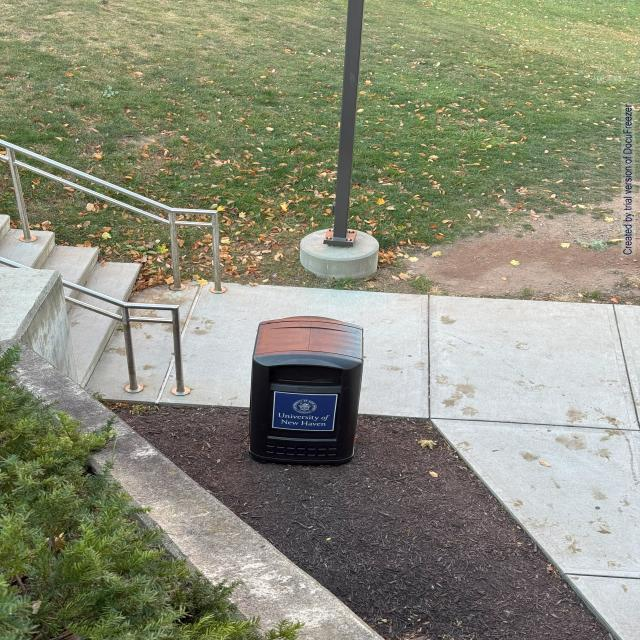Trash bin: (244, 291, 390, 485)
